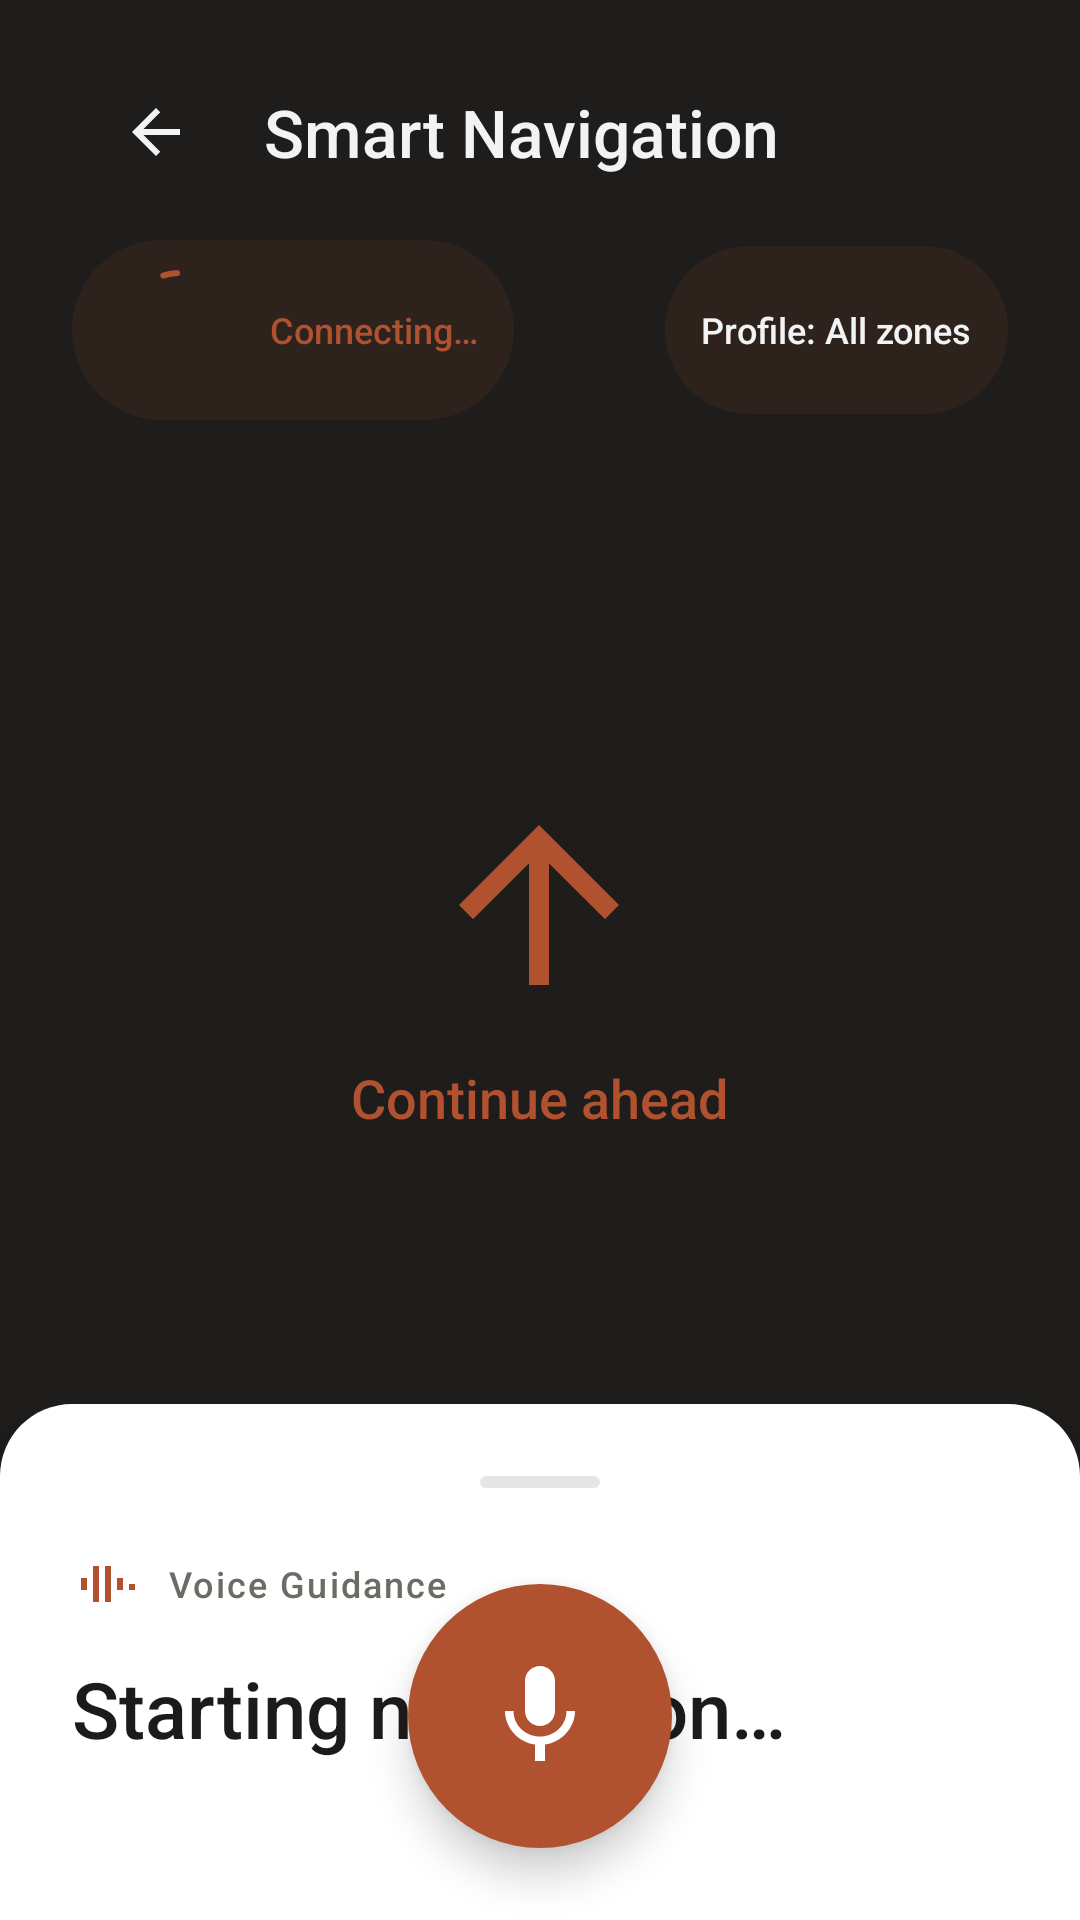

Named icons in this screenshot (1080x1920) and their centers, [x,y]:
ai wave: [108,1584]
Go back to dashboard: [156,132]
Speak a command. Tap, then say what you need: [540,1716]
